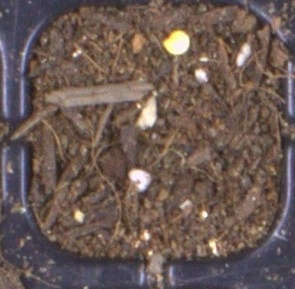chilli seed: (162, 29, 190, 55)
